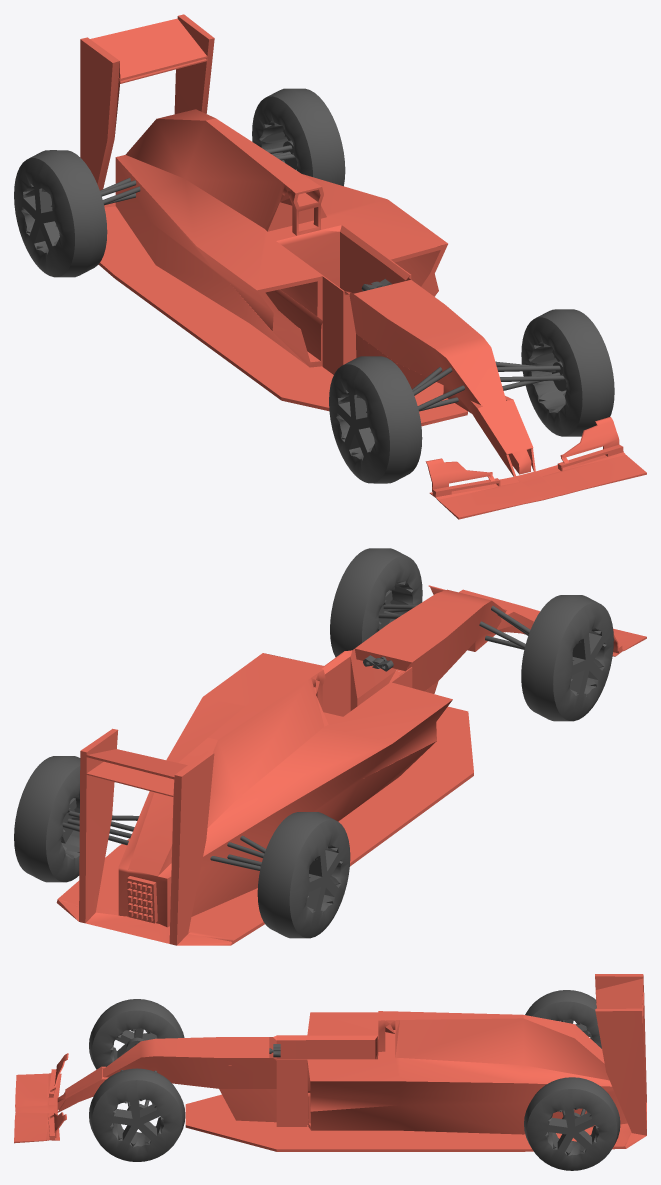
Rendered from f1_car.glb.
3 renders of one model, top to bottom at view 1: azimuth 30°, elevation 25°; view 2: azimuth 150°, elevation 25°; view 3: azimuth 270°, elevation 25°, orthographic. The views are drawn at different scales.
Visible parts, largest first — view 1: polySurface1, pPipe1, pPipe4, pPipe2, pPipe3, pCube2; view 2: polySurface1, pPipe1, pPipe4, pPipe3, pPipe2, pCube2; view 3: polySurface1, pPipe3, pPipe2, pPipe1, pPipe4, pCube2.
Part boxes in pixels (<box>): polySurface1: <box>80,14,646,519</box>; pPipe1: <box>329,356,422,483</box>; pPipe4: <box>14,150,107,277</box>; pPipe2: <box>521,309,614,436</box>; pPipe3: <box>252,88,345,186</box>; pCube2: <box>90,18,207,80</box>; polySurface1: <box>56,585,646,945</box>; pPipe1: <box>521,595,613,721</box>; pPipe4: <box>257,812,350,938</box>; pPipe3: <box>14,756,80,882</box>; pPipe2: <box>330,548,422,657</box>; pCube2: <box>86,749,187,779</box>; polySurface1: <box>14,974,646,1151</box>; pPipe3: <box>524,1077,620,1170</box>; pPipe2: <box>89,1068,185,1161</box>; pPipe1: <box>89,999,184,1069</box>; pPipe4: <box>525,990,601,1048</box>; pCube2: <box>595,978,643,1008</box>.
Size of the model in its own units: 0.7689 by 0.4618 by 2.
